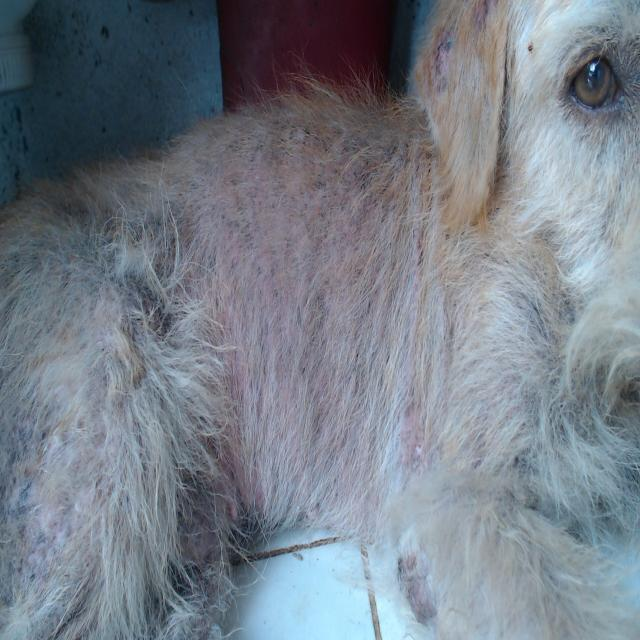demodicosis: (223, 179, 371, 460), (0, 418, 79, 596), (423, 23, 462, 98), (404, 415, 442, 472), (404, 543, 433, 611)
